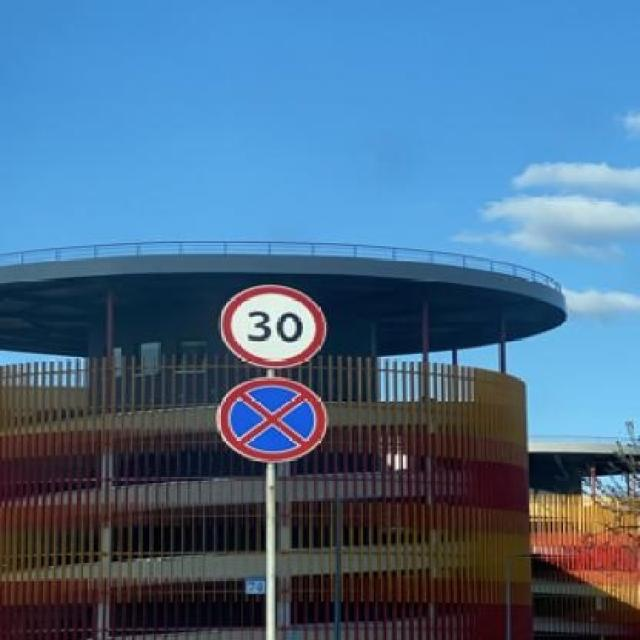forb_speed_over_30: (224, 284, 325, 367)
